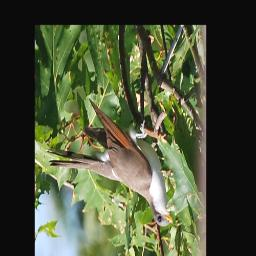Cuckoo: (46, 99, 173, 228)
